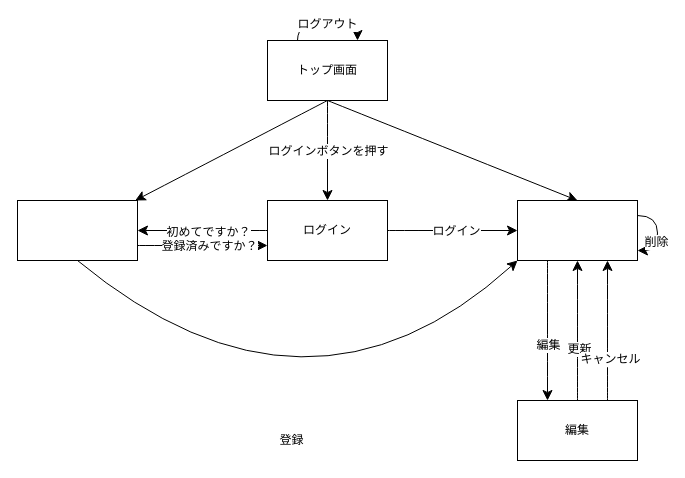
This 685x478 diagram has some shape labels left out. The shapes that lost their labels are listed below. From the top down, each one's centre as x and y in pixels, then its label:
[77,230]: アカウント作成
[577,230]: 投稿一覧
